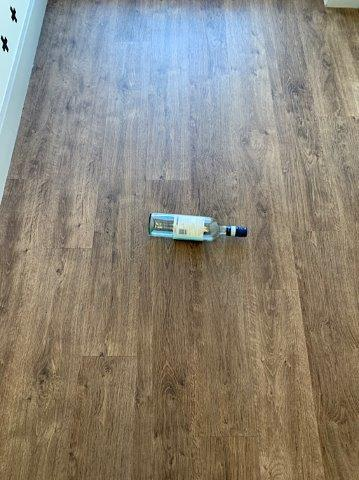botolkaca: (148, 213, 248, 241)
